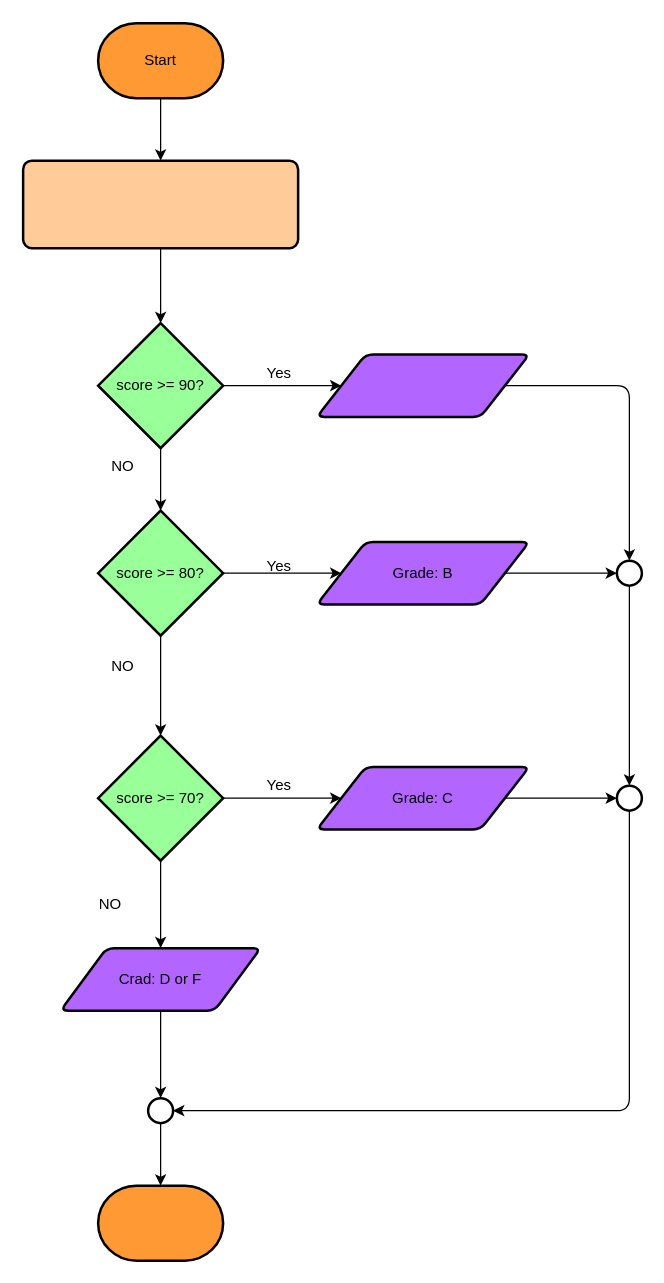
Image size: 664x1283. Some labels were removed from this diagram. Each missing label, with the centre of its shape:
Grade: A: point (422, 385)
Score = 75: point (160, 204)
Stop: point (160, 1222)
